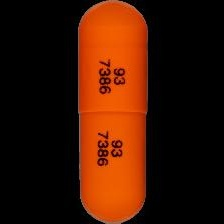33261-814: (0, 0, 224, 224)
